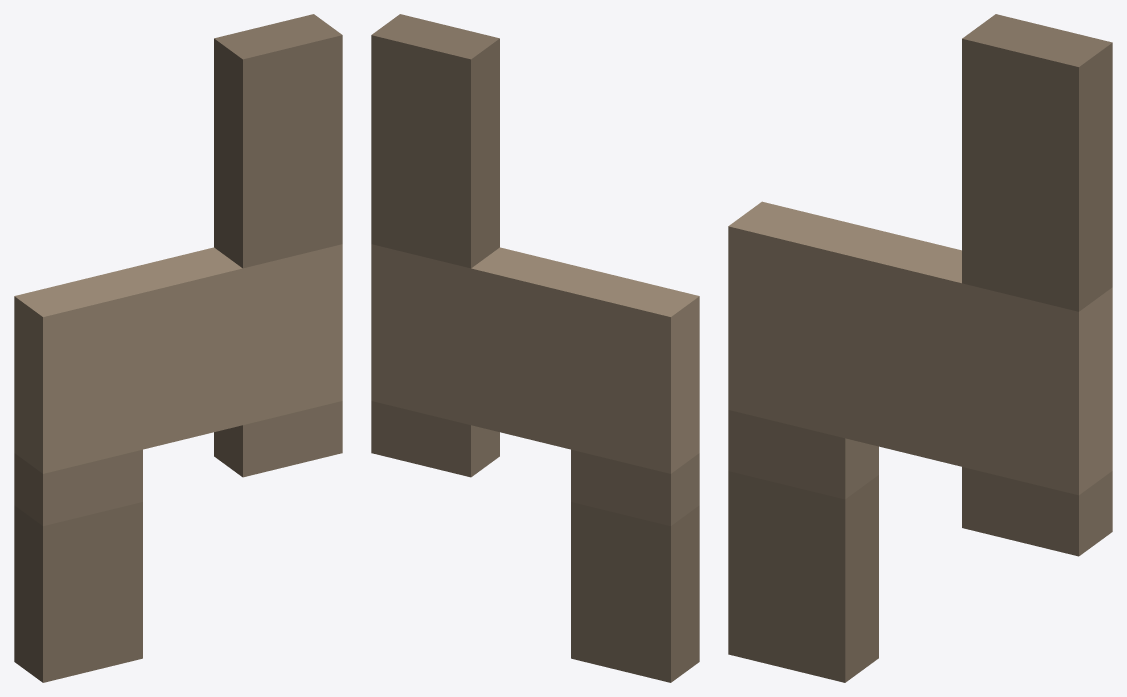
Rendered from honda_01.glb.
The picture shows the model from 3 angles, left to right: view 1: azimuth 30°, elevation 25°; view 2: azimuth 150°, elevation 25°; view 3: azimuth 330°, elevation 25°; orthographic projection. The views are drawn at different scales.
Parts seen in each view (by area): view 1: honda; view 2: honda; view 3: honda.
Boxes of the visible parts, x1,y1,x2,y2 form: honda: (14,14,342,682); honda: (371,14,699,682); honda: (728,14,1112,682).
Size of the model in its own units: 0.5 by 0.9167 by 0.0833.
